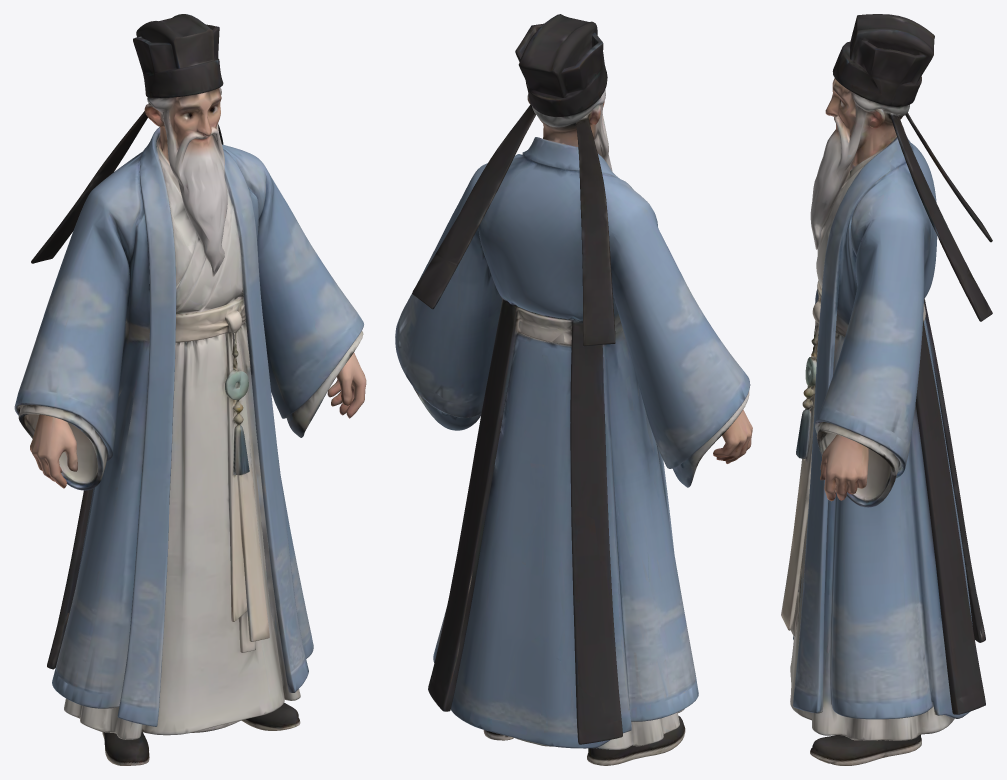
File: daren.glb
3 views of the same model, side by side, from view 1: azimuth 30°, elevation 25°; view 2: azimuth 150°, elevation 25°; view 3: azimuth 270°, elevation 25° (orthographic).
Parts seen in each view (by area): view 1: node_0; view 2: node_0; view 3: node_0.
Boxes of the visible parts, x1,y1,x2,y2 form: node_0: (14,14,366,765); node_0: (395,14,752,765); node_0: (781,14,992,765).
Size of the model in its own units: 0.581 by 1.16 by 0.3162.
Materials: 1 (1 with a texture image).
